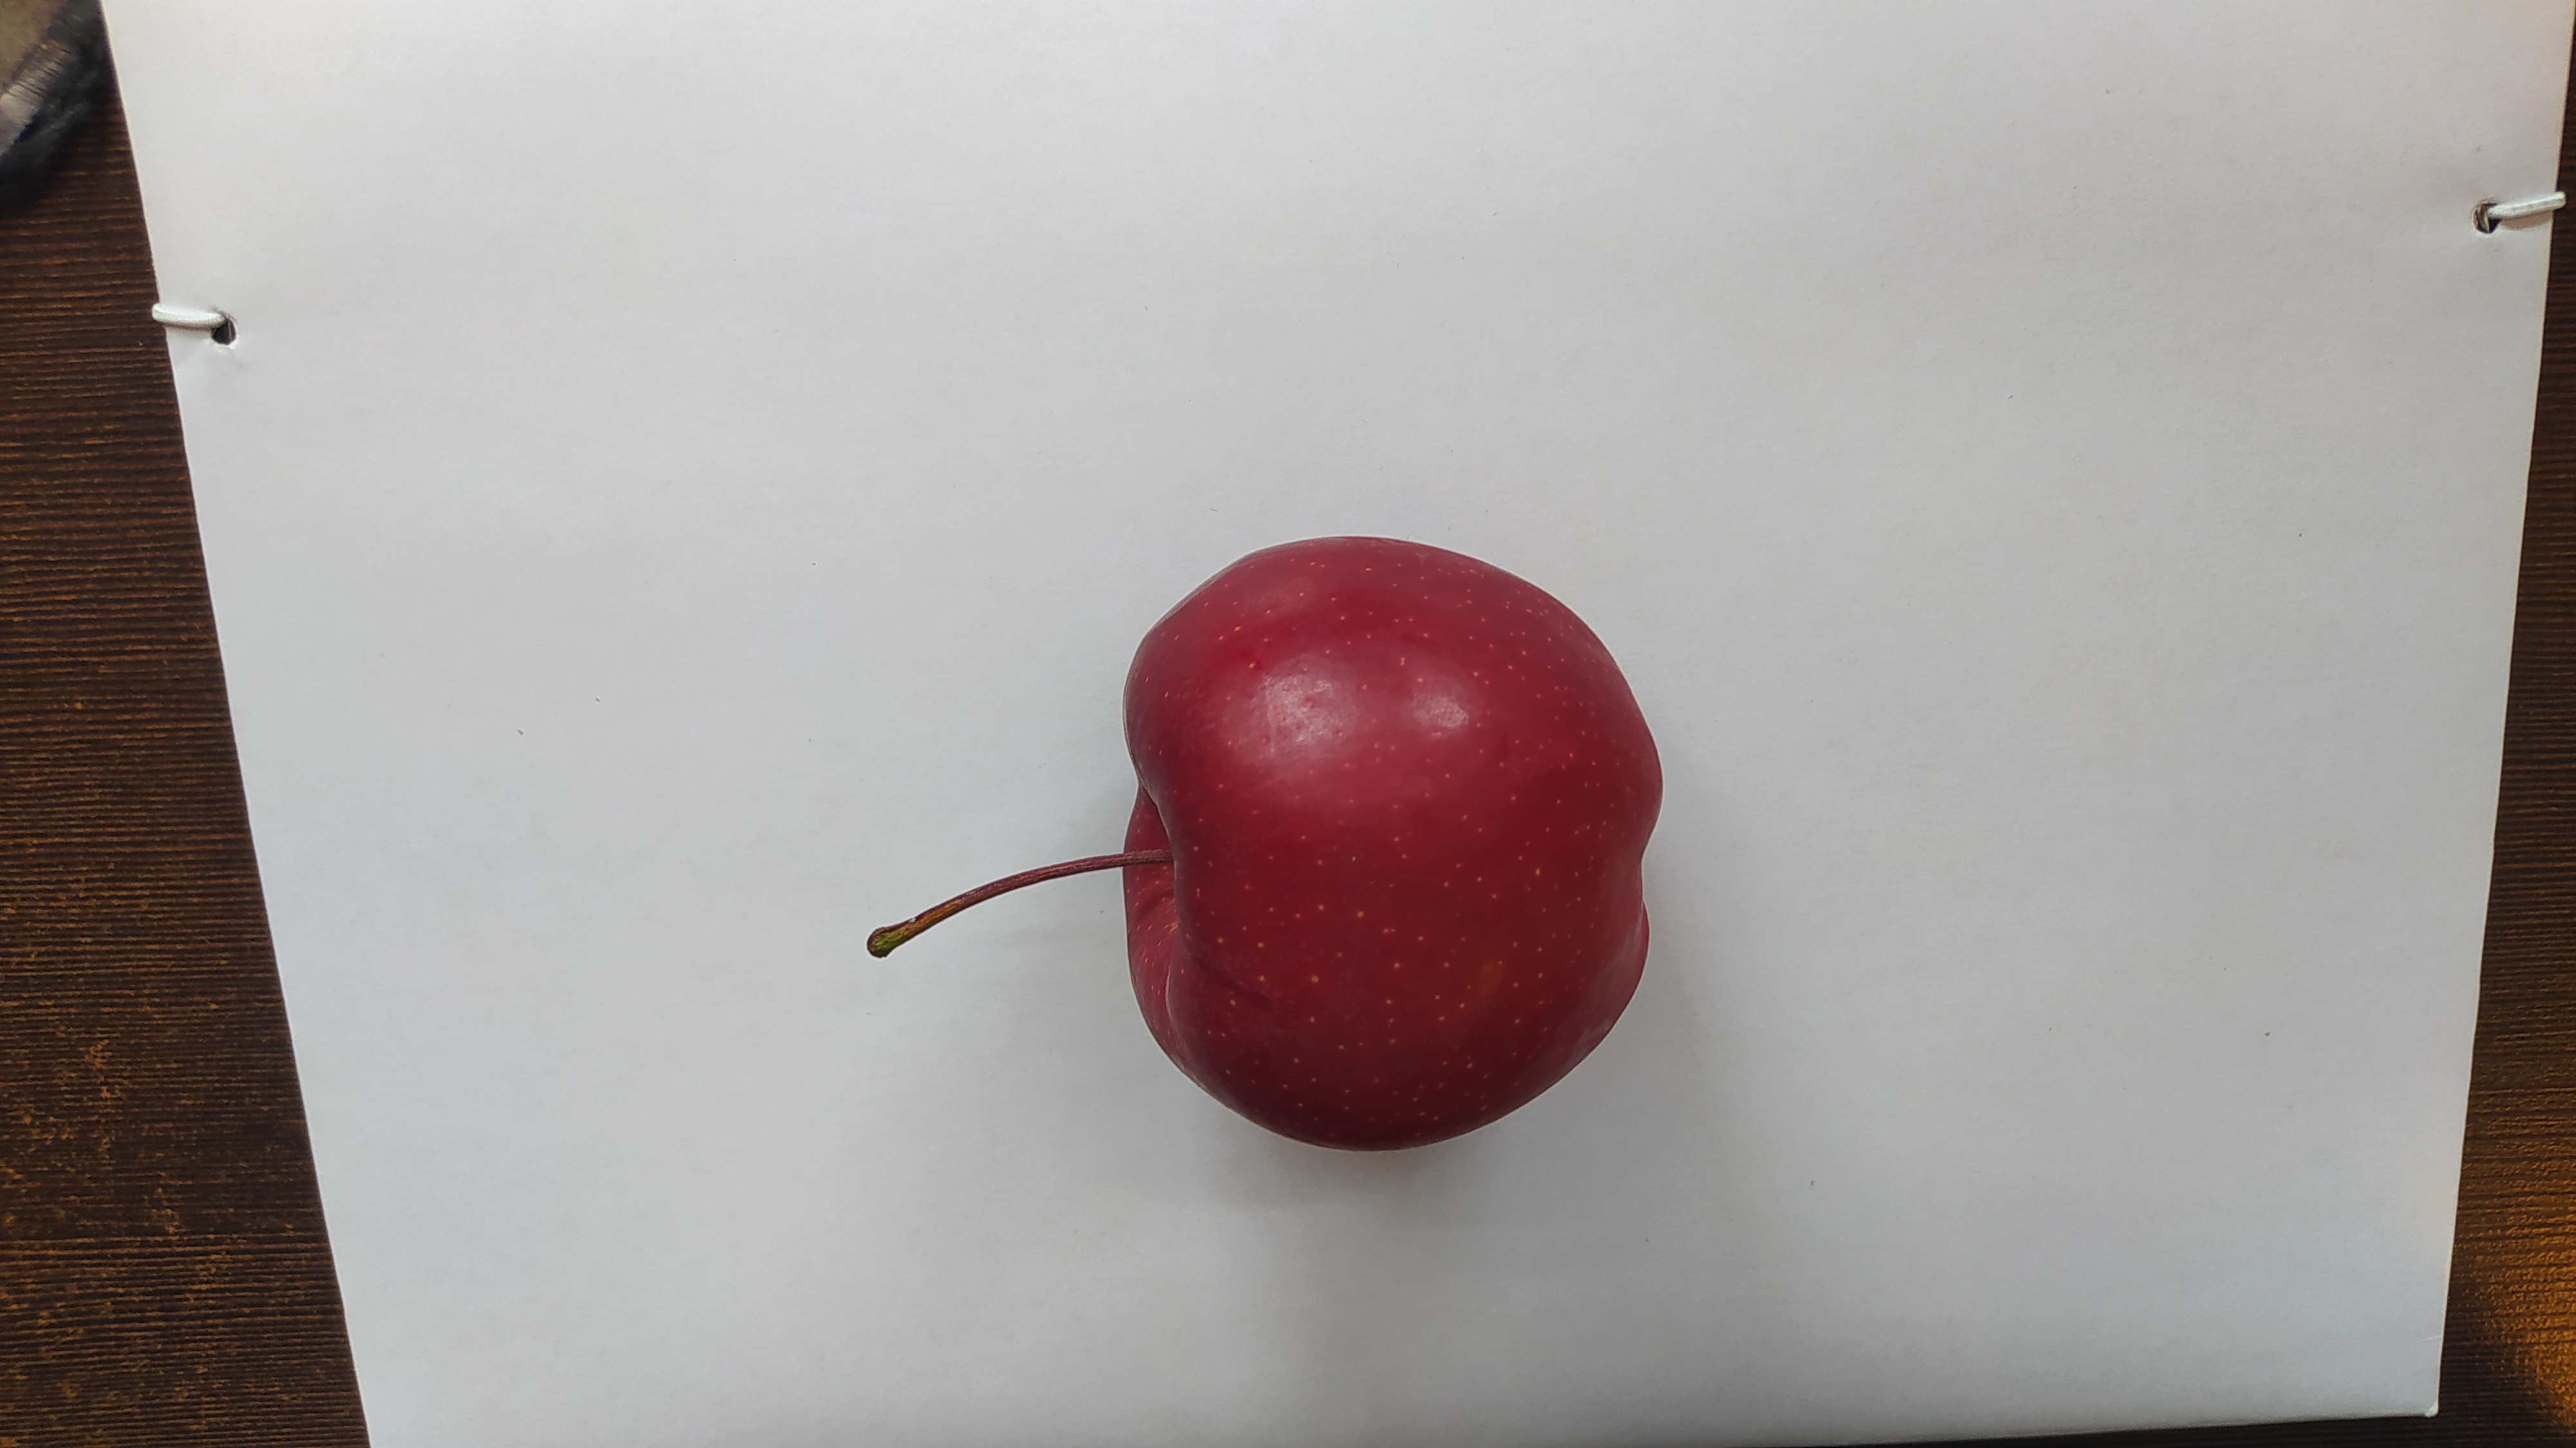apple: (1116, 535, 1663, 1154)
